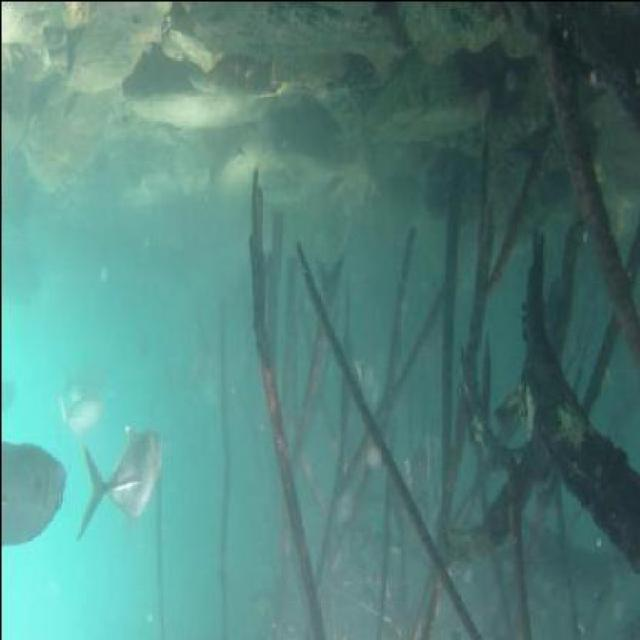Caranx_sexfasciatus_juvenile: (72, 430, 170, 532), (0, 429, 68, 554), (52, 382, 110, 444), (50, 362, 119, 400)
